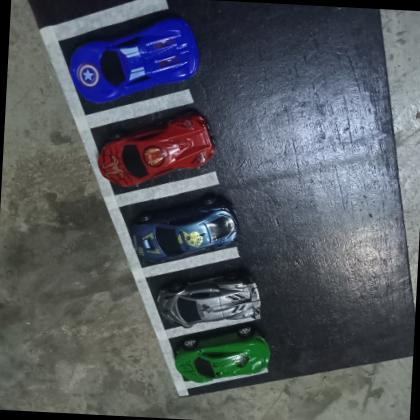Car: (66, 10, 201, 110), (95, 106, 213, 194), (130, 194, 240, 264), (154, 272, 264, 332), (172, 326, 272, 388)
